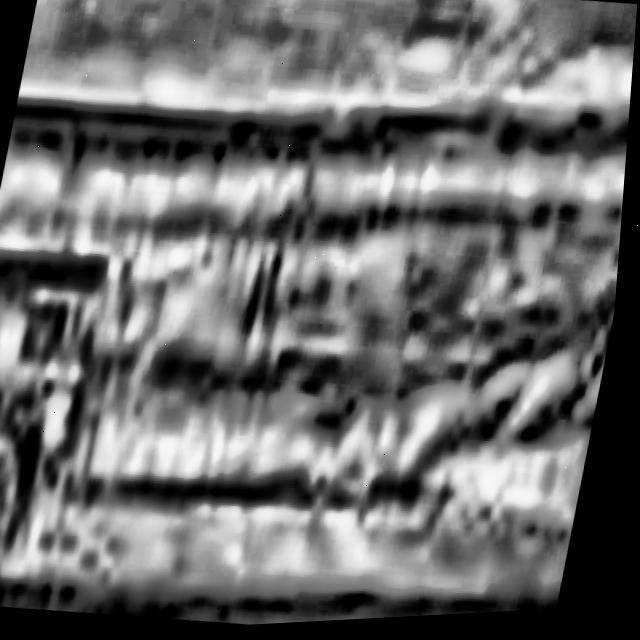dump_truck: (0, 136, 154, 616)
